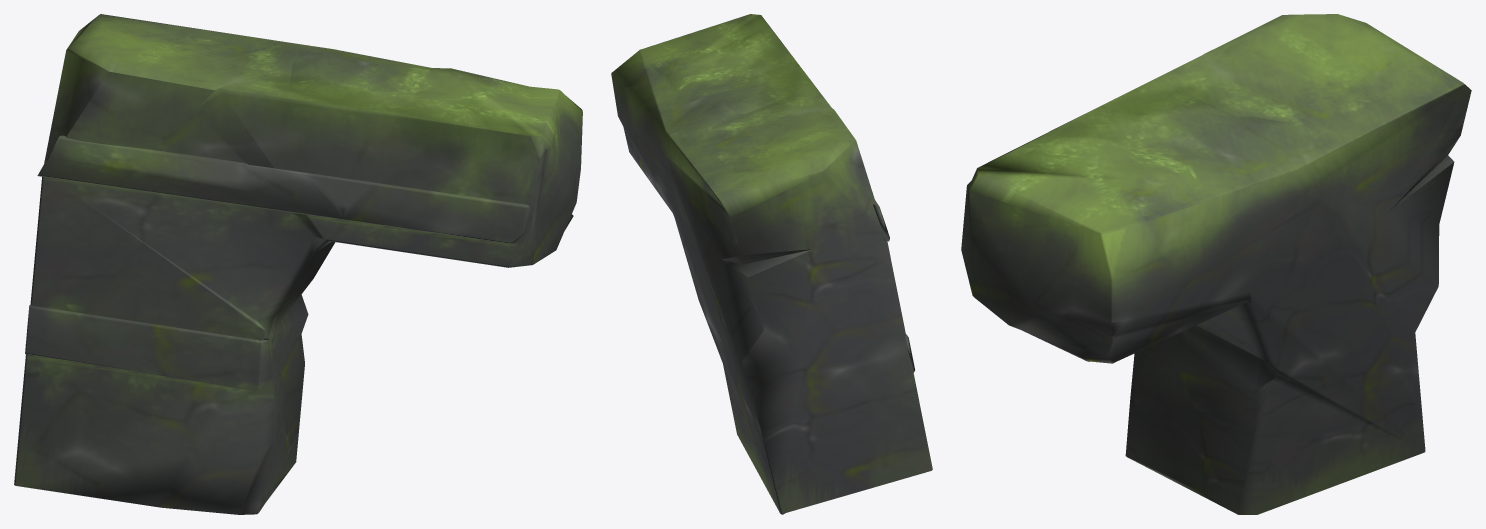
File: arche 1.fbx
The picture shows the model from 3 angles, left to right: view 1: azimuth 30°, elevation 25°; view 2: azimuth 150°, elevation 25°; view 3: azimuth 270°, elevation 25°; orthographic projection. The views are drawn at different scales.
Visible parts, largest first — view 1: Box062; view 2: Box062; view 3: Box062.
Part boxes in pixels (box(x1,y1,x2,y2)): Box062: box(14, 14, 582, 514); Box062: box(611, 14, 932, 514); Box062: box(961, 14, 1471, 514).
Size of the model in its own units: 175 by 148 by 158.
